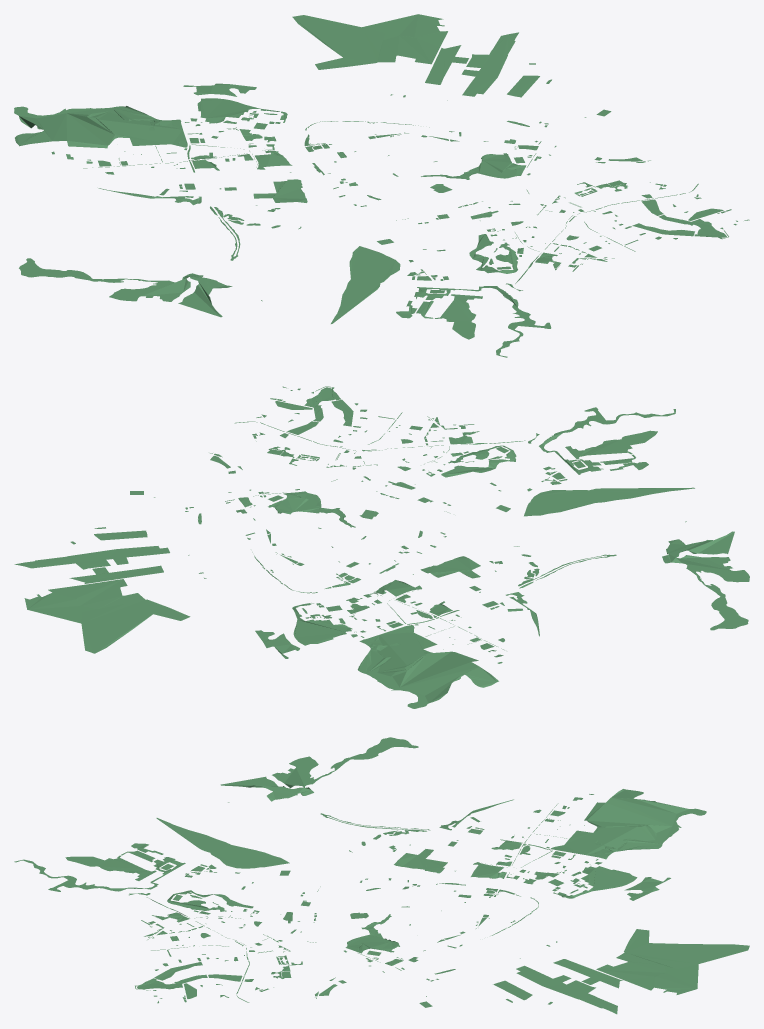
Rendered from green.glb.
3 renders of one model, top to bottom at view 1: azimuth 30°, elevation 25°; view 2: azimuth 150°, elevation 25°; view 3: azimuth 270°, elevation 25°, orthographic. The views are drawn at different scales.
Parts seen in each view (by area): view 1: green; view 2: green; view 3: green.
Boxes of the visible parts, x1,y1,x2,y2 form: green: (14,14,749,357); green: (14,386,749,708); green: (14,737,749,1014).
Size of the model in its own units: 5195 by 70.45 by 5829.
